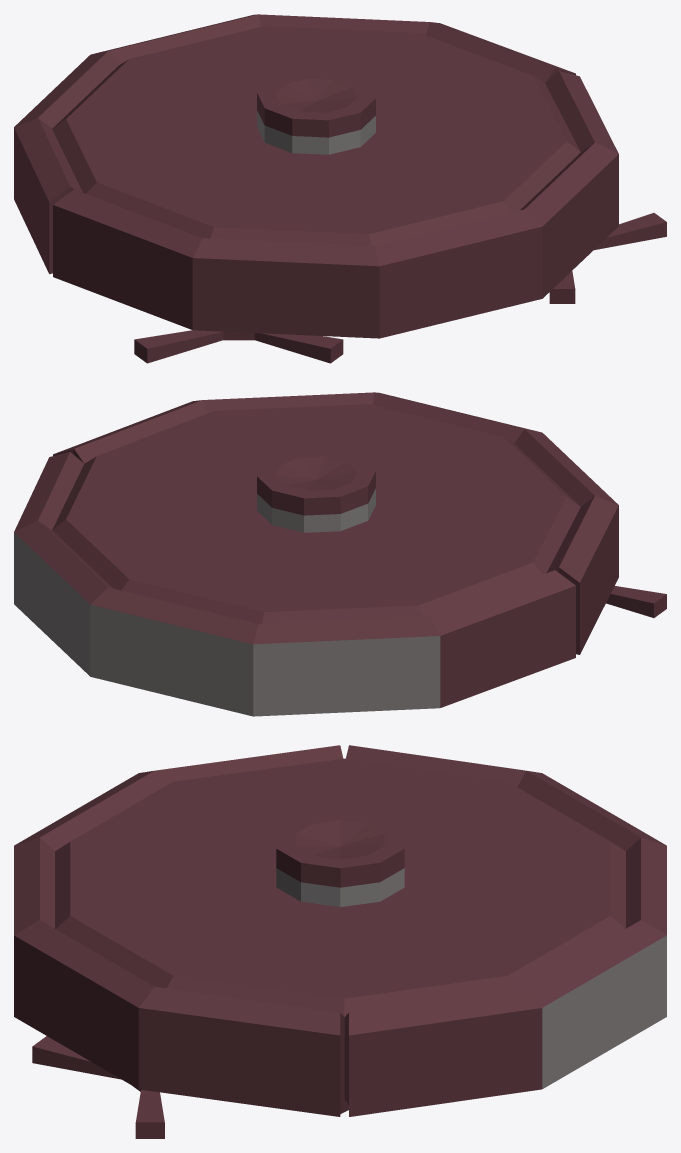
File: vacuum-cleaner-robotic.fbx
The picture shows the model from 3 angles, top to bottom: view 1: azimuth 30°, elevation 25°; view 2: azimuth 150°, elevation 25°; view 3: azimuth 270°, elevation 25°; orthographic projection. The views are drawn at different scales.
Visible parts, largest first — view 1: vacuum-cleaner-robotic; view 2: vacuum-cleaner-robotic; view 3: vacuum-cleaner-robotic.
Part boxes in pixels (left/top/right/bottom): vacuum-cleaner-robotic: left=14, top=14, right=666, bottom=363; vacuum-cleaner-robotic: left=14, top=392, right=666, bottom=716; vacuum-cleaner-robotic: left=14, top=745, right=666, bottom=1138.
Bounding box in the file's own units: 0.48 × 0.1259 × 0.4565.
